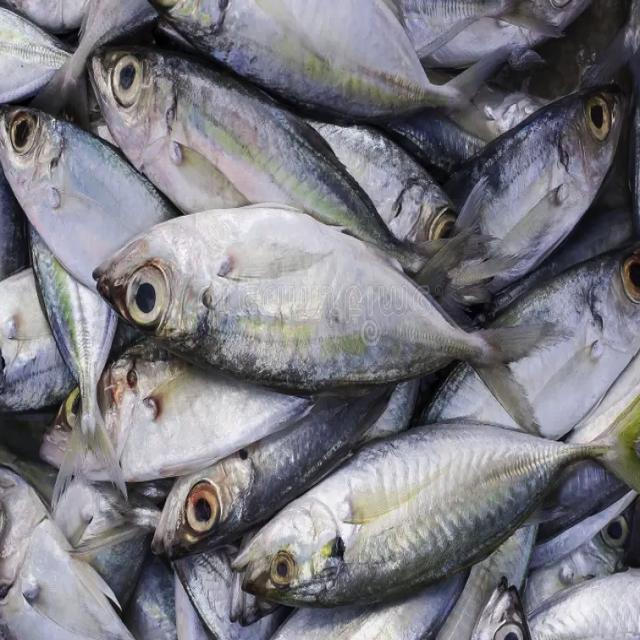Mackerel: (94, 212, 570, 431), (232, 417, 640, 603)
